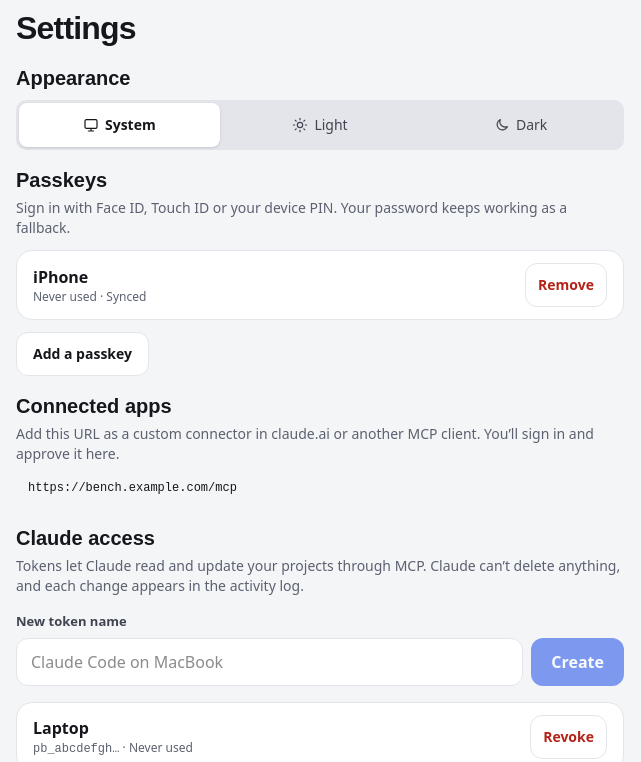
Test case: SettingsScreen › lists passkeys and offers adding one where they work
This screenshot has width=641, height=762.
expect the text "iPhone" is shown: met, box [33,266,88,288]
Click the button "Add a passkey": point(82, 354) [16,332,149,376]
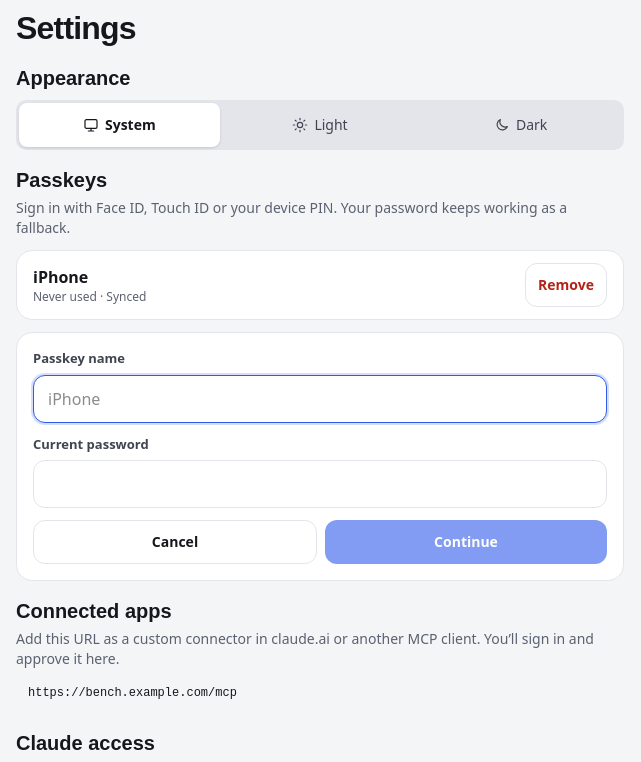
expect the password field labelled "Current password" is shown: met, box [33,460,607,508]
